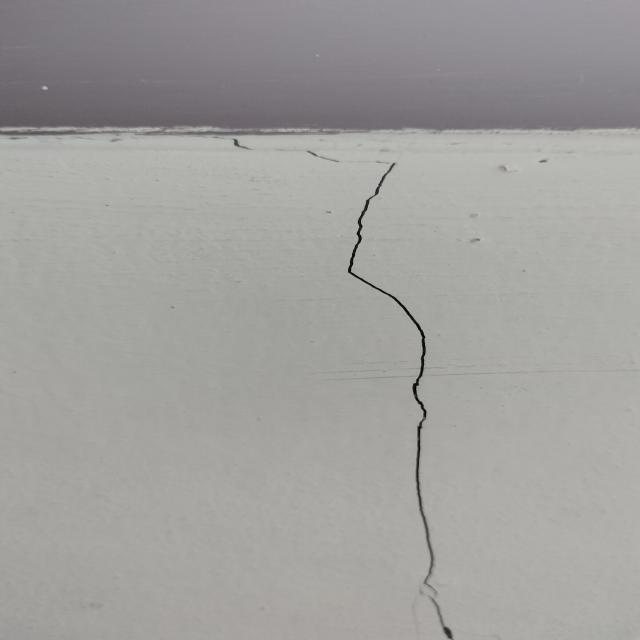Crack: (240, 139, 462, 640)
